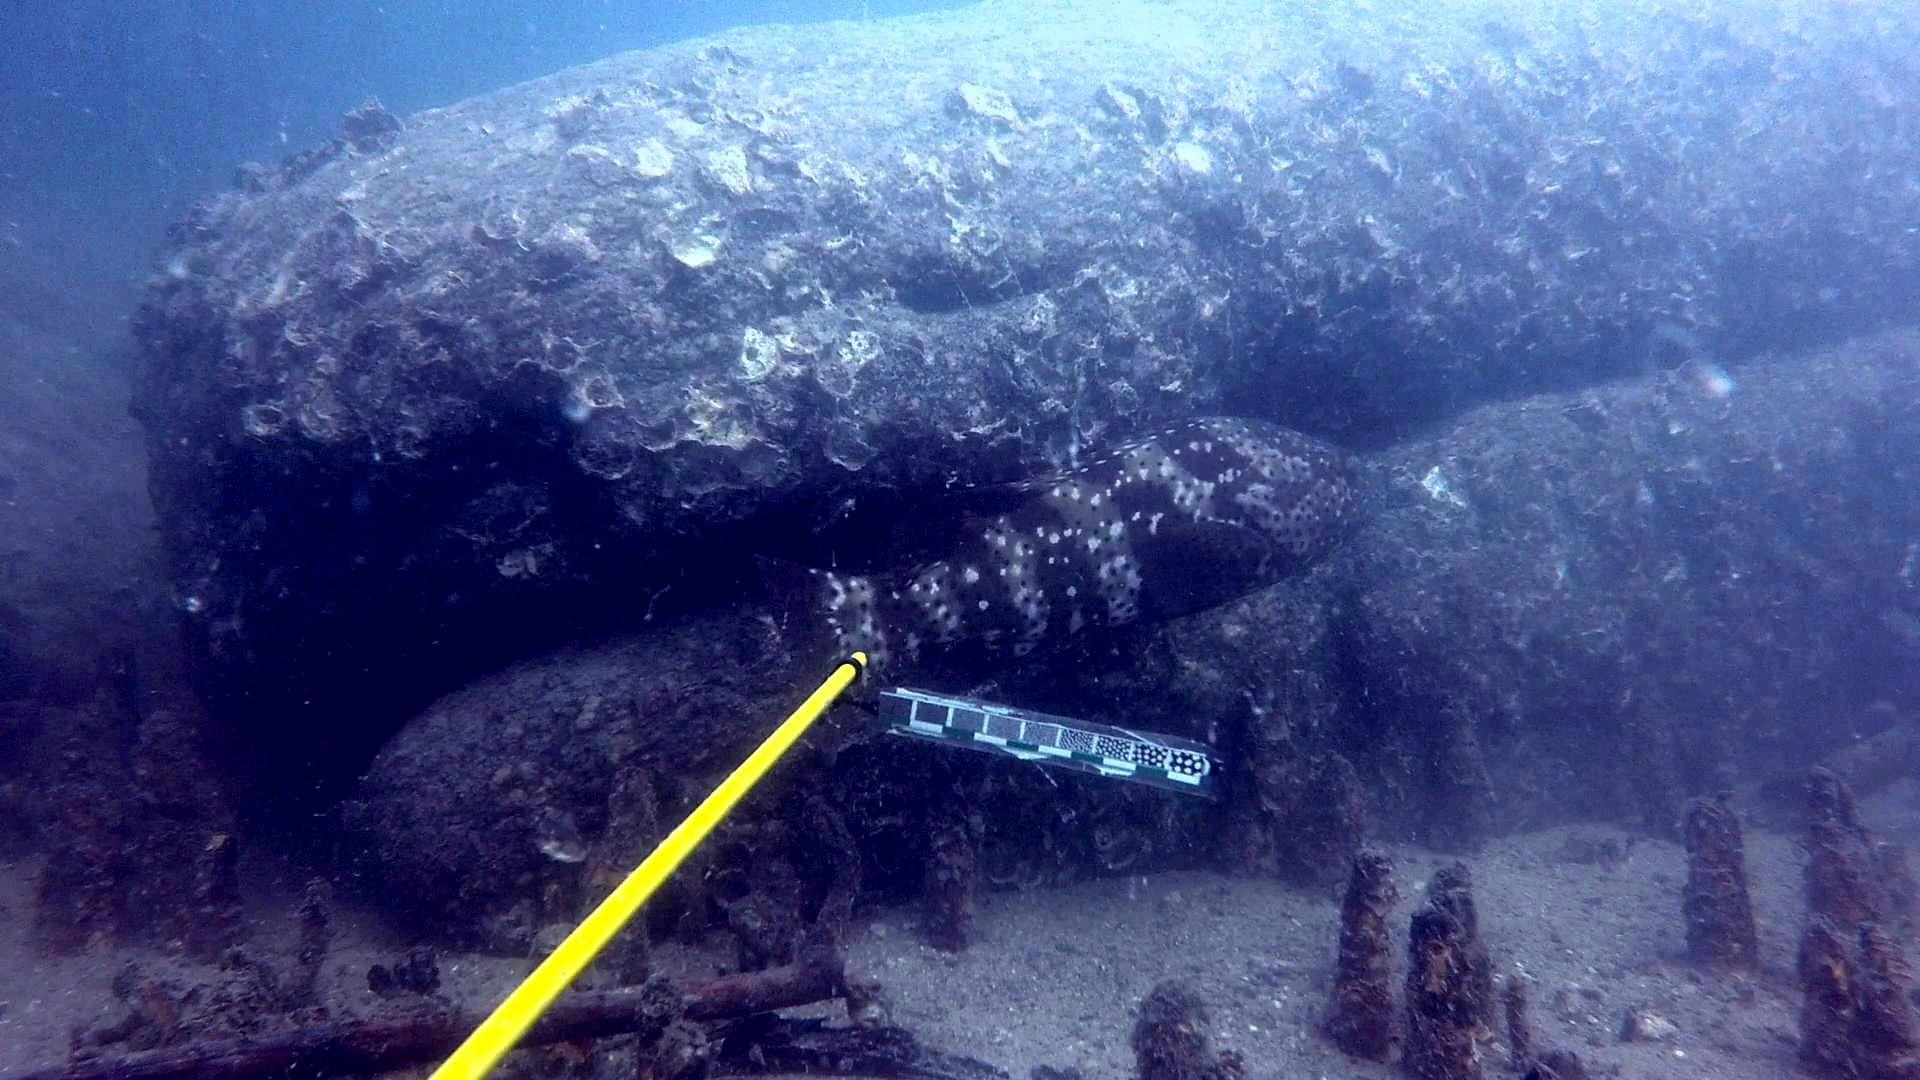epinephelus: (748, 409, 1394, 769)
